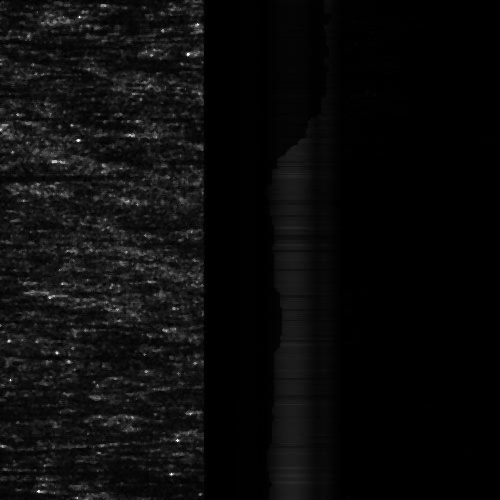shadow: (0, 376, 36, 393), (0, 173, 70, 178)
